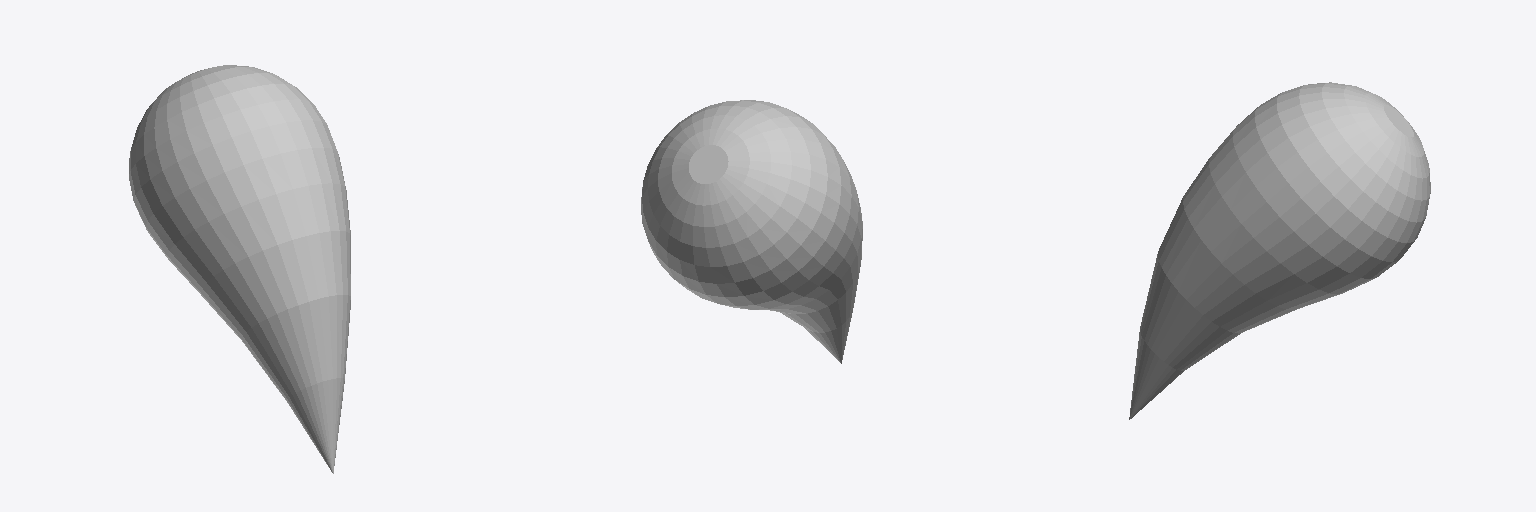
Rendered from drop1.obj.
The picture shows the model from 3 angles: view 1: azimuth 30°, elevation 25°; view 2: azimuth 150°, elevation 25°; view 3: azimuth 270°, elevation 25°; orthographic projection.
Visible parts, largest first — view 1: obj_0; view 2: obj_0; view 3: obj_0.
Part boxes in pixels (x1,y1,x2,y2): obj_0: (129, 65, 350, 473); obj_0: (641, 100, 862, 363); obj_0: (1129, 82, 1430, 419).
Size of the model in its own units: 0.7939 by 1.37 by 1.15.